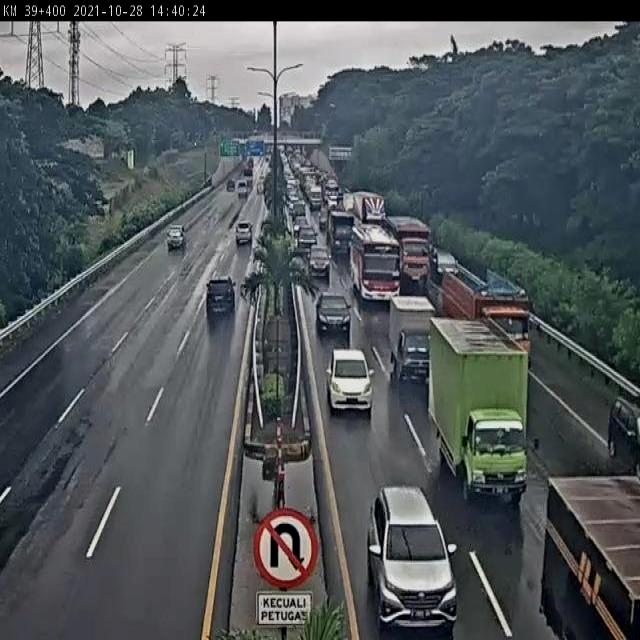Bus: (348, 222, 402, 306)
Car: (367, 486, 459, 636), (325, 347, 375, 420), (606, 390, 640, 477), (315, 295, 352, 338), (205, 276, 237, 316), (429, 242, 460, 282), (307, 245, 332, 283), (166, 225, 187, 254), (296, 226, 318, 249), (235, 220, 254, 245)
Truck: (426, 312, 540, 509), (536, 471, 640, 640), (437, 264, 540, 372), (386, 293, 436, 381), (385, 214, 436, 290), (349, 190, 386, 226), (329, 209, 355, 257)
